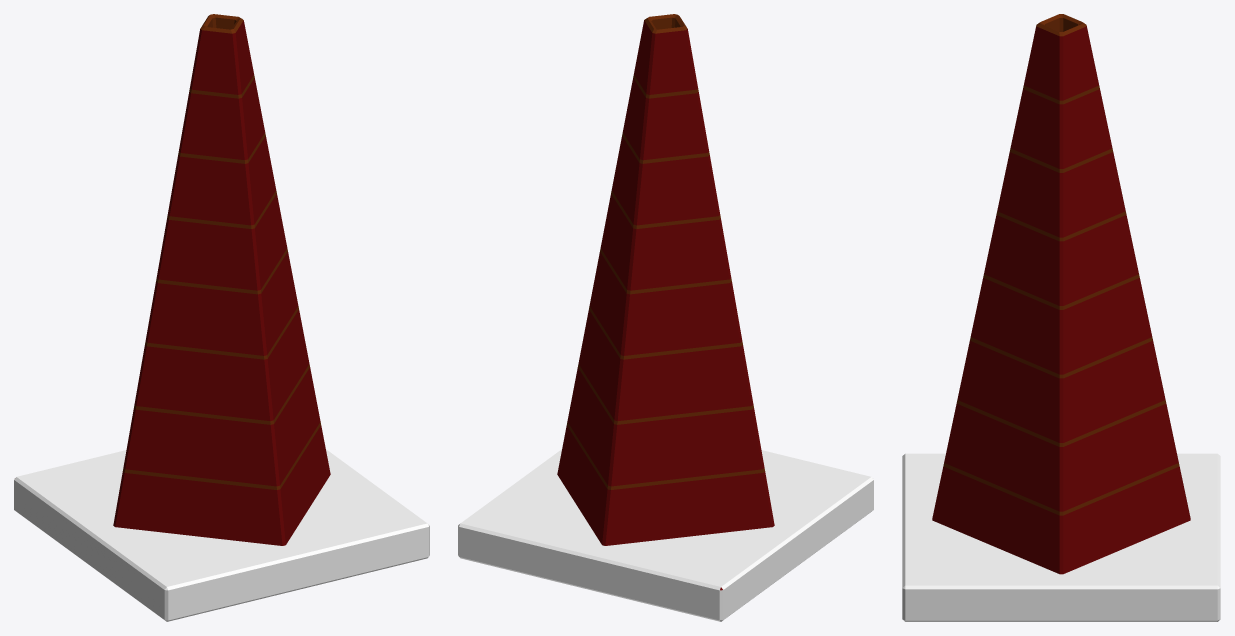
3 renders of one model, left to right at view 1: azimuth 30°, elevation 25°; view 2: azimuth 150°, elevation 25°; view 3: azimuth 270°, elevation 25°, orthographic. The views are drawn at different scales.
Parts seen in each view (by area): view 1: pCone2; view 2: pCone2; view 3: pCone2.
Part boxes in pixels (x1,y1,x2,y2): pCone2: (14,14,429,621); pCone2: (458,14,873,621); pCone2: (902,14,1220,621).
Bounding box in the file's own units: 496 × 916 × 496.
